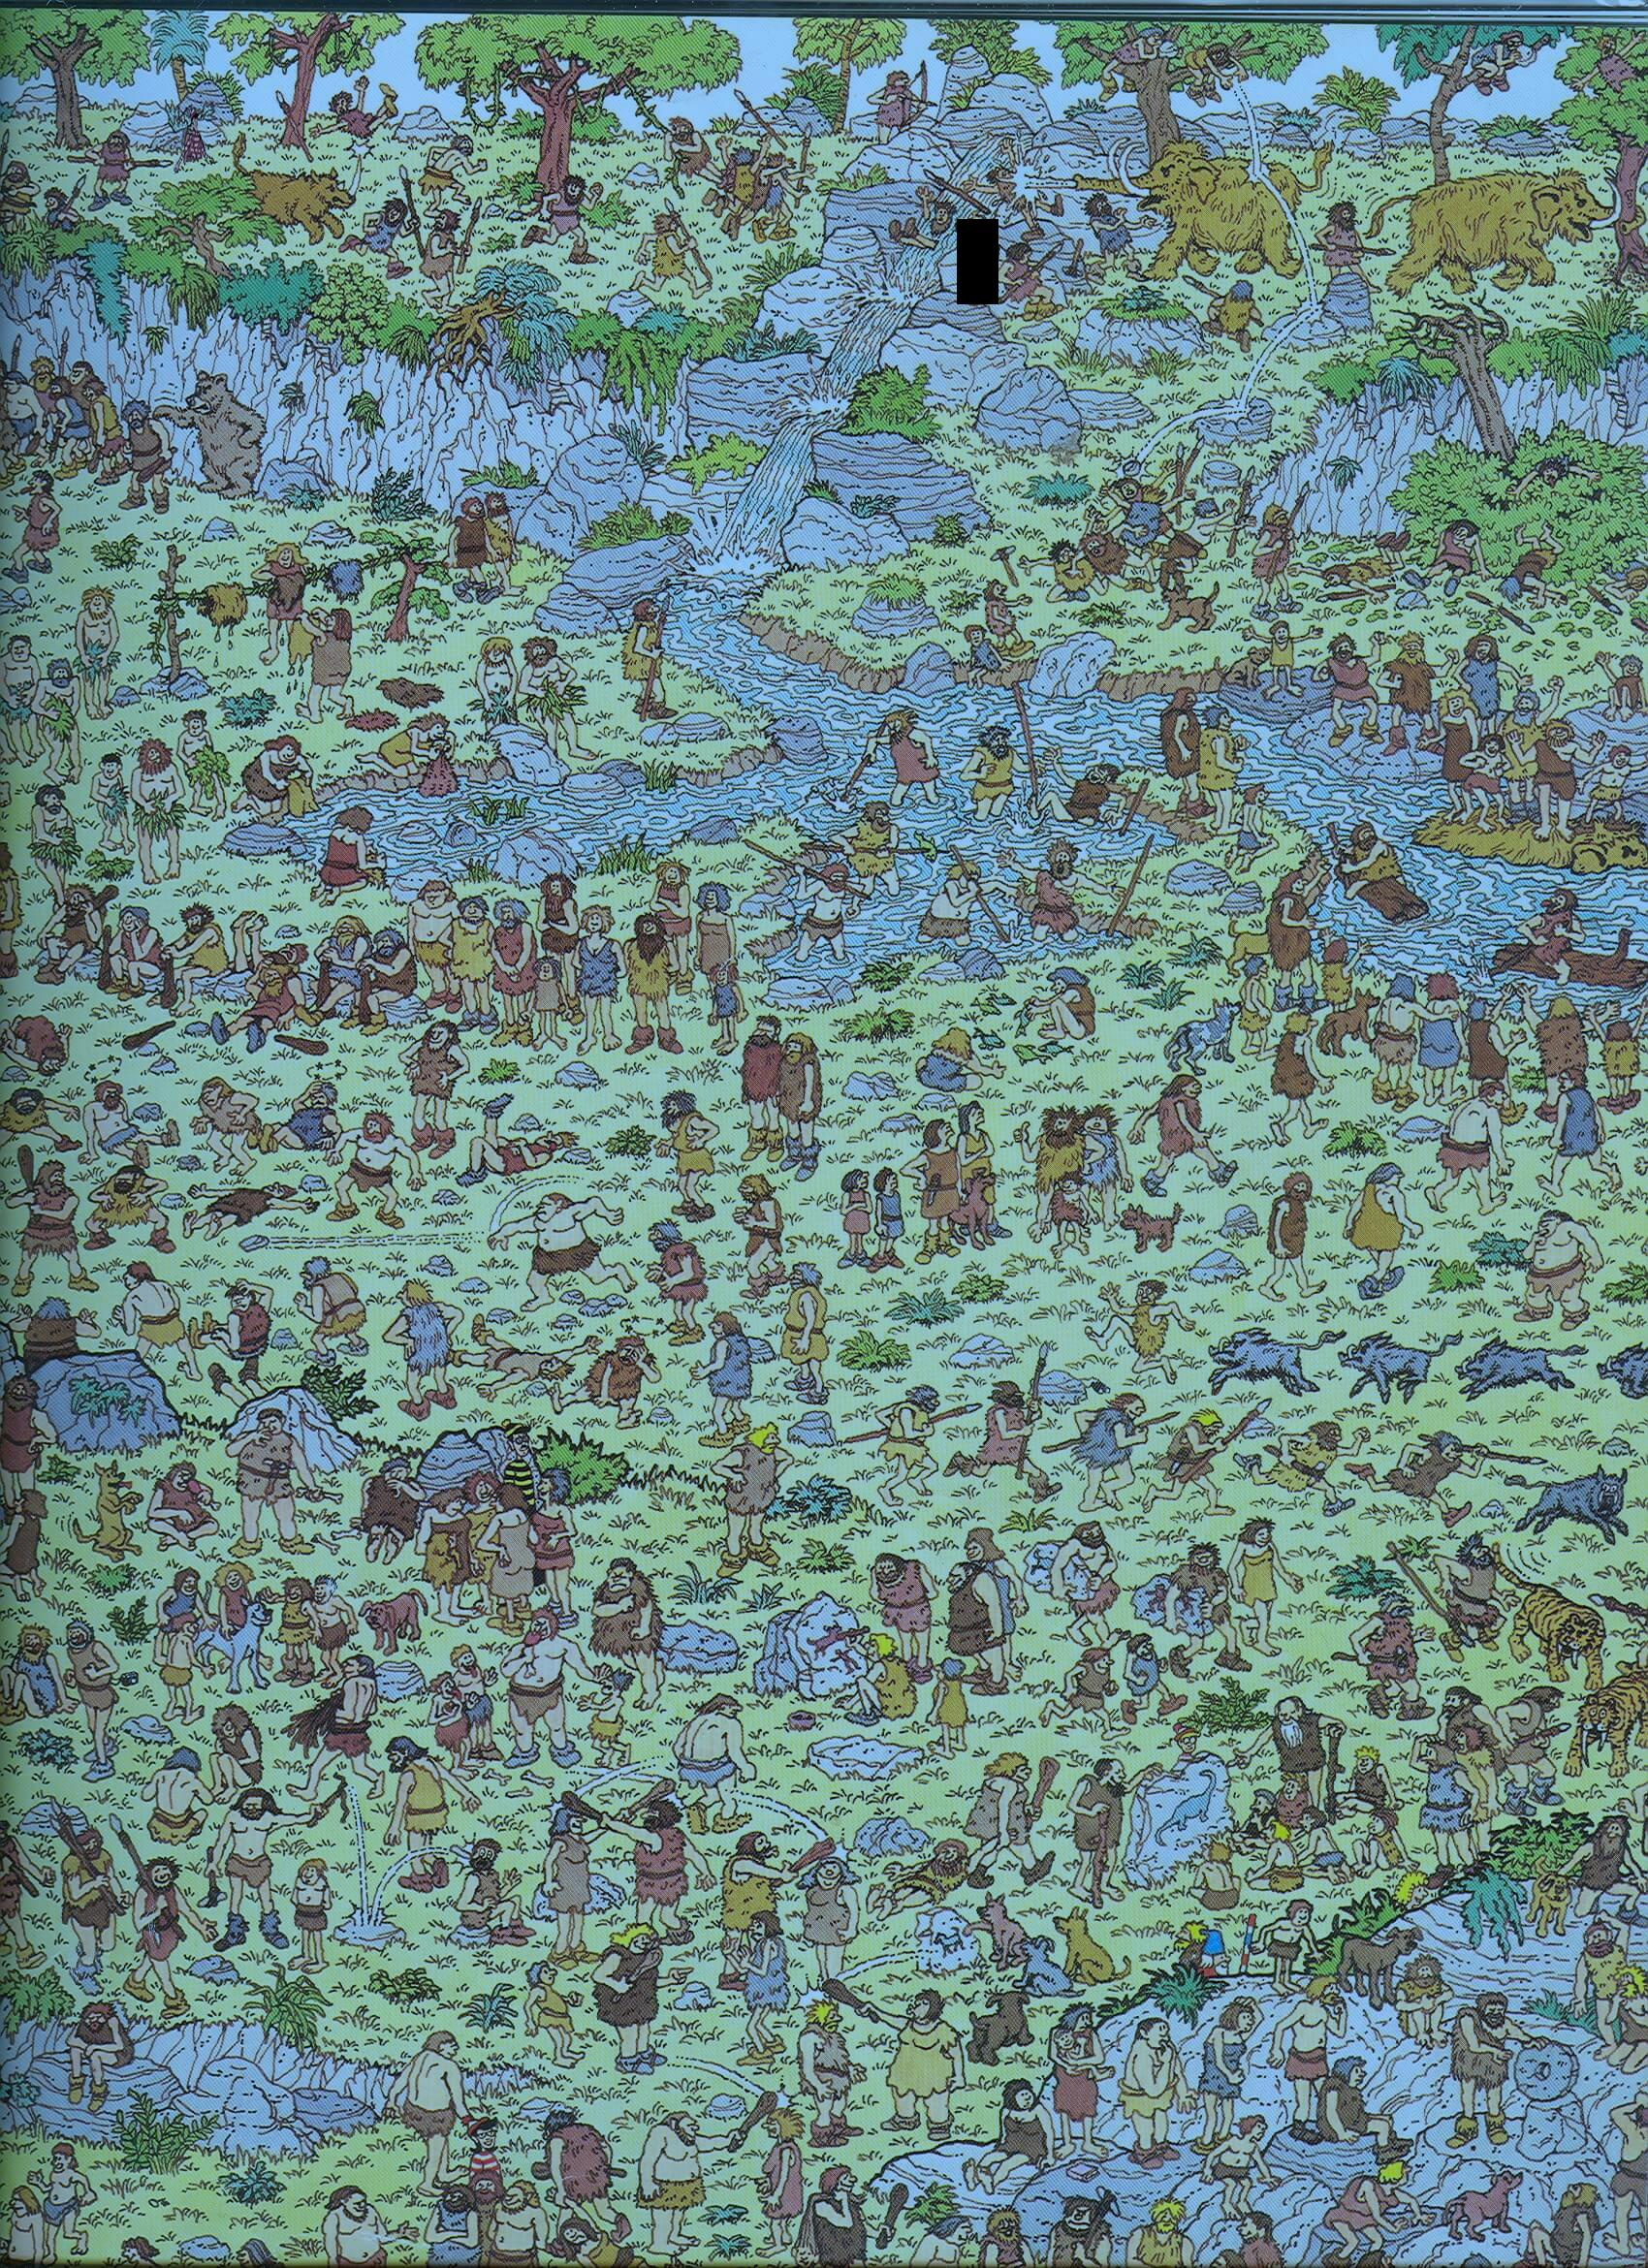waldos: (174, 106, 215, 190)
